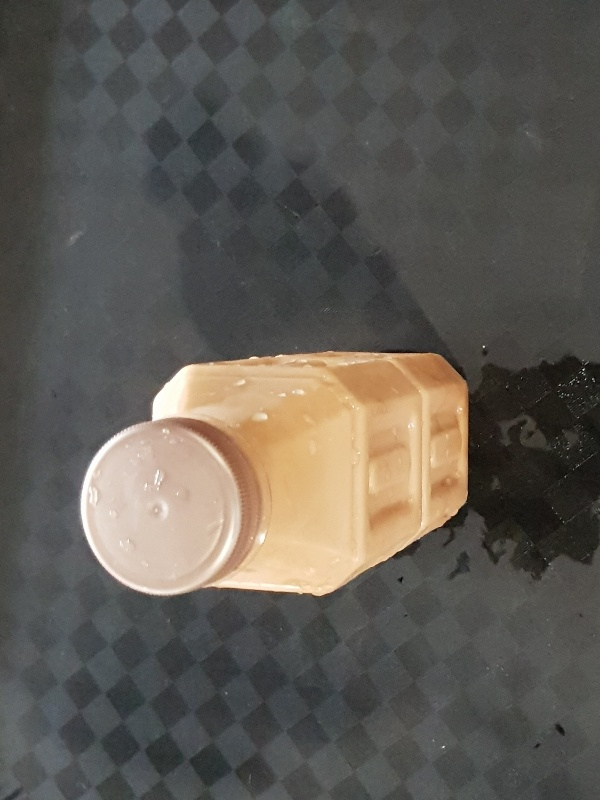Mocha: (78, 346, 470, 601)
